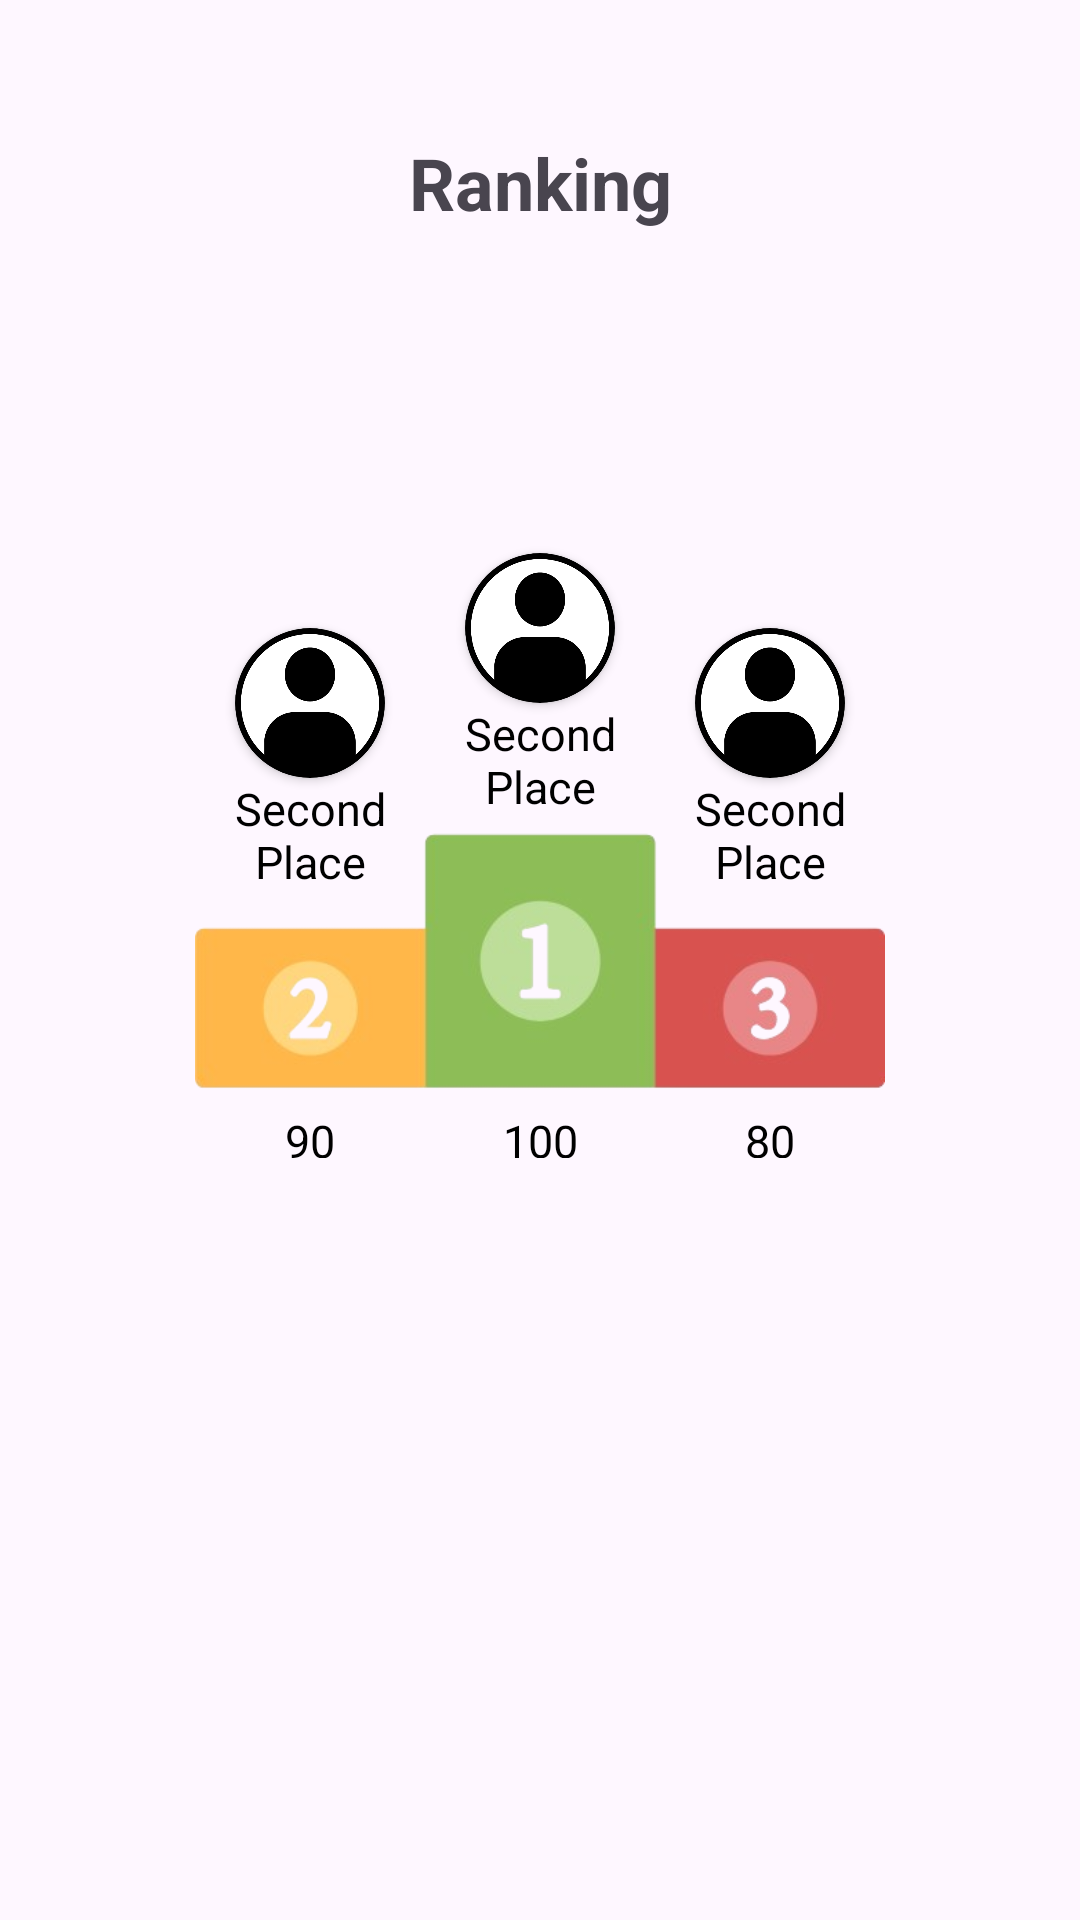

Point at icon controls on the screen. Image size 1080x1920, points as point (x, y).
profile: point (540, 628), point (310, 703), point (770, 703)
